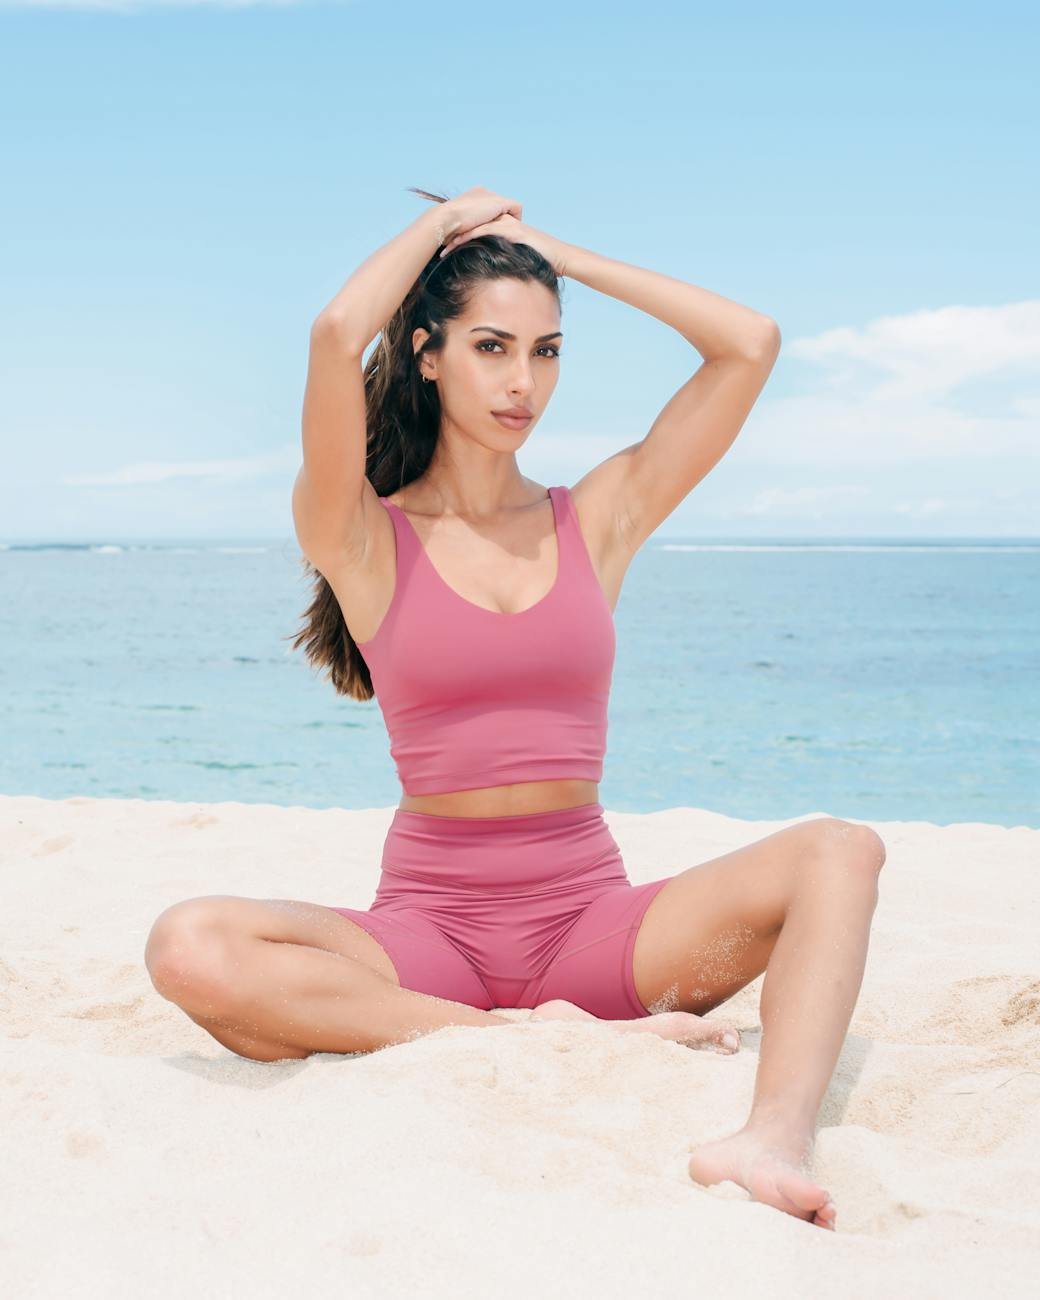crop_top: (319, 443, 675, 799)
shorts: (323, 793, 708, 1023)
